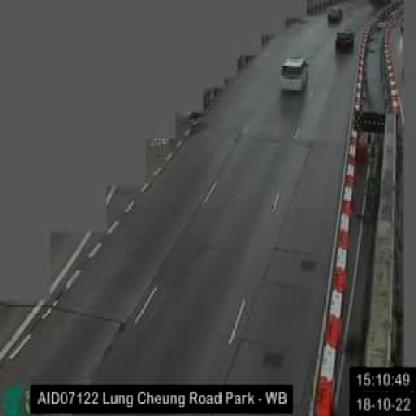Car: (280, 54, 309, 96), (334, 26, 356, 54), (327, 5, 345, 25)
